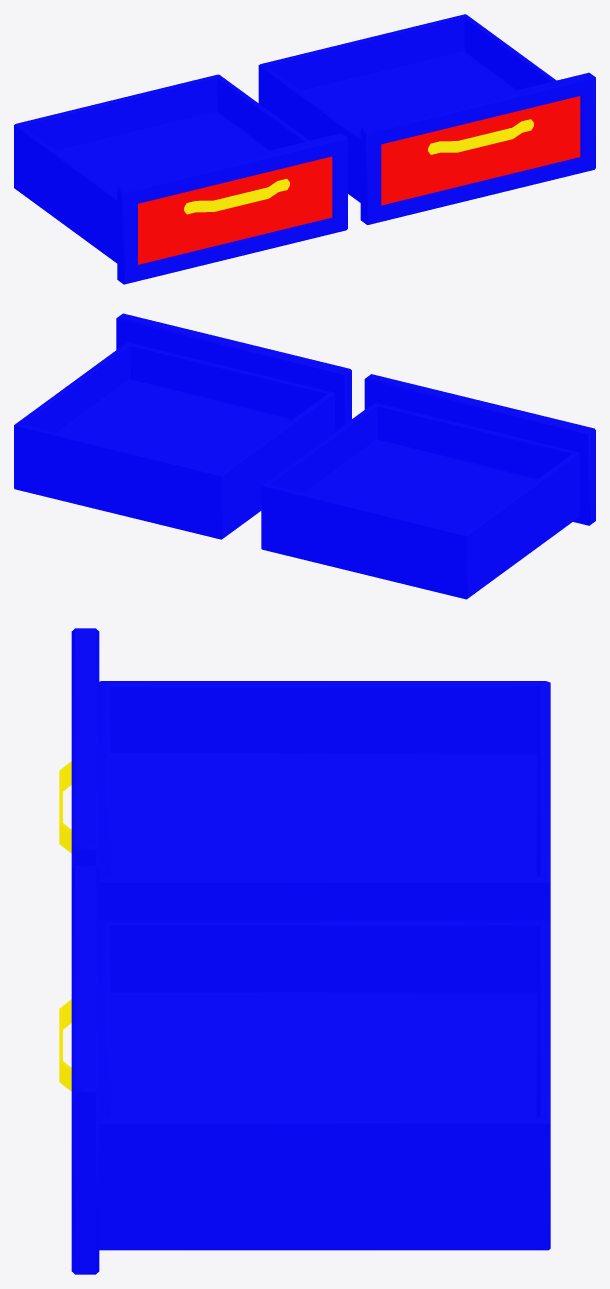
The model's file is K_Schubladen1.fbx.
3 views of the same model, one above another, from view 1: azimuth 30°, elevation 25°; view 2: azimuth 150°, elevation 25°; view 3: azimuth 270°, elevation 25° (orthographic). The views are drawn at different scales.
Visible parts, largest first — view 1: Schubladen1; view 2: Schubladen1; view 3: Schubladen1.
Boxes of the visible parts, x1,y1,x2,y2 form: Schubladen1: (14,14,595,284); Schubladen1: (14,313,595,599); Schubladen1: (59,628,550,1274).
Size of the model in its own units: 79.63 by 15.02 by 35.76.
